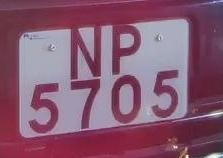0: (106, 70, 150, 131)
5: (24, 79, 67, 140), (146, 64, 183, 125)
7: (64, 76, 108, 135)
N: (60, 22, 109, 84)
P: (105, 18, 147, 78)
